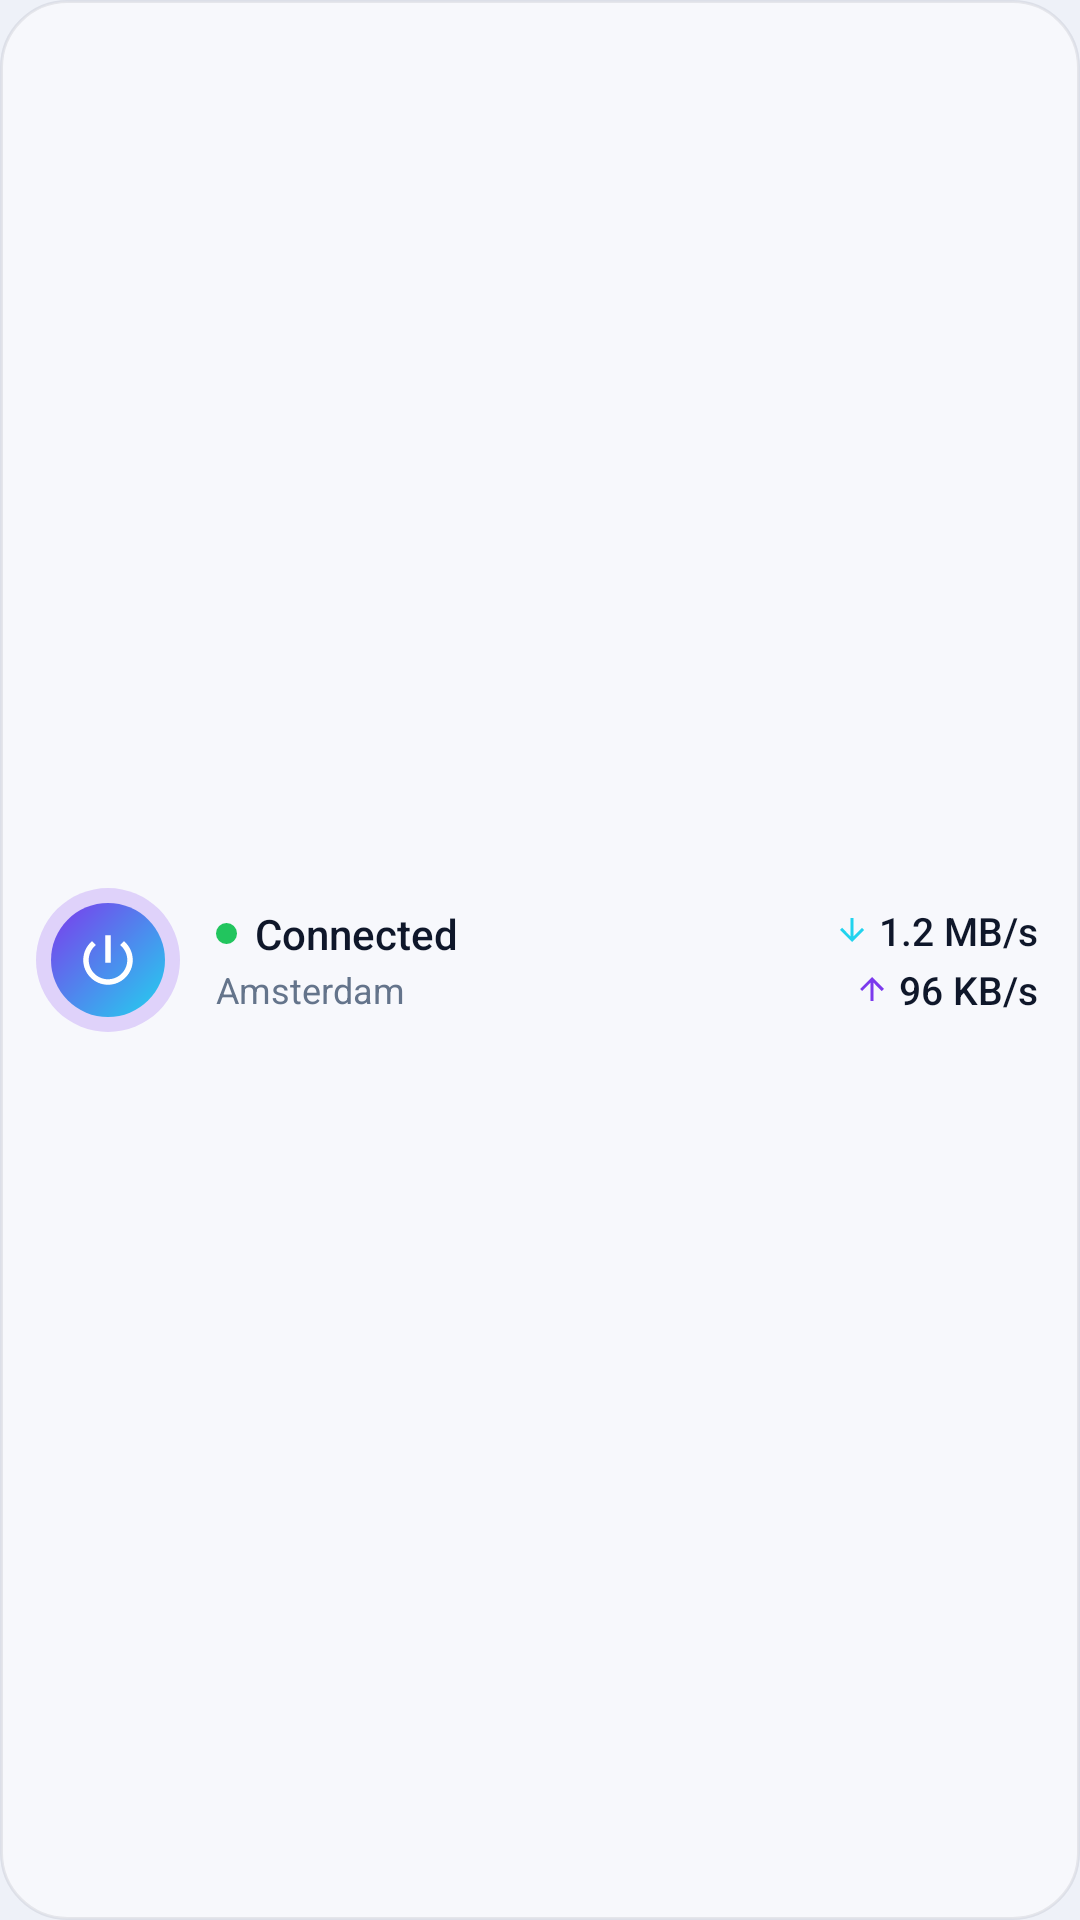

Screen size 1080×1920. Icon name, then its box in pixels as (x1, y1, x2, y2):
arrow down: (840, 918, 864, 942)
arrow up: (860, 977, 884, 1001)
